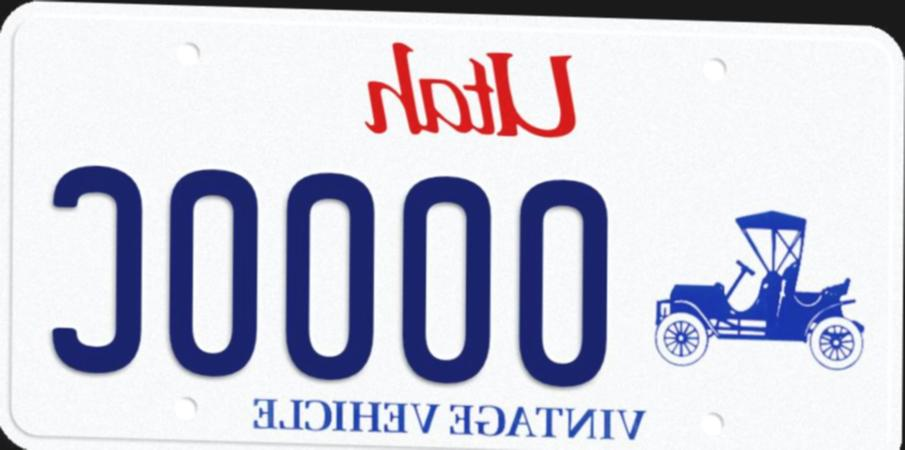License_Plate: (0, 1, 902, 450)
